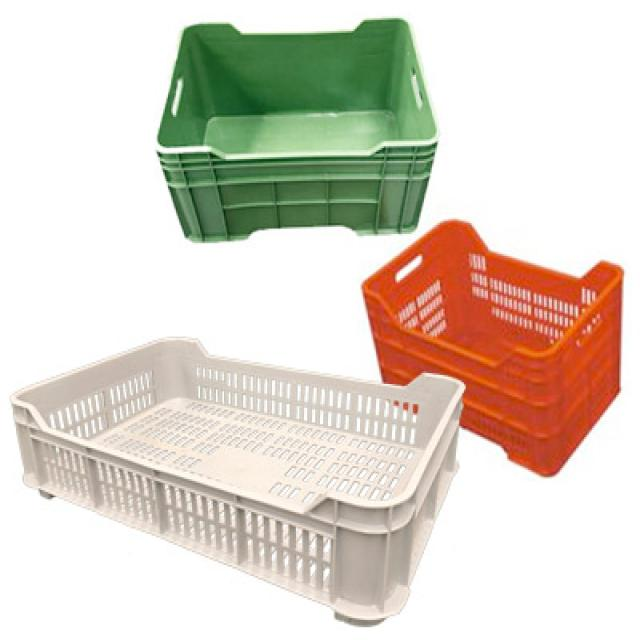basket: (0, 315, 470, 632), (155, 17, 442, 242)
